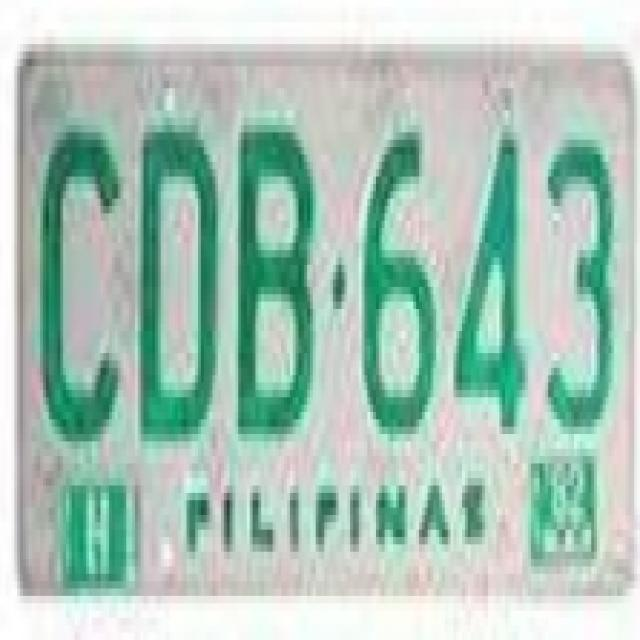3: (538, 110, 622, 440)
4: (450, 108, 528, 444)
6: (354, 103, 442, 449)
B: (232, 105, 320, 445)
C: (33, 110, 127, 448)
D: (133, 107, 220, 454)
